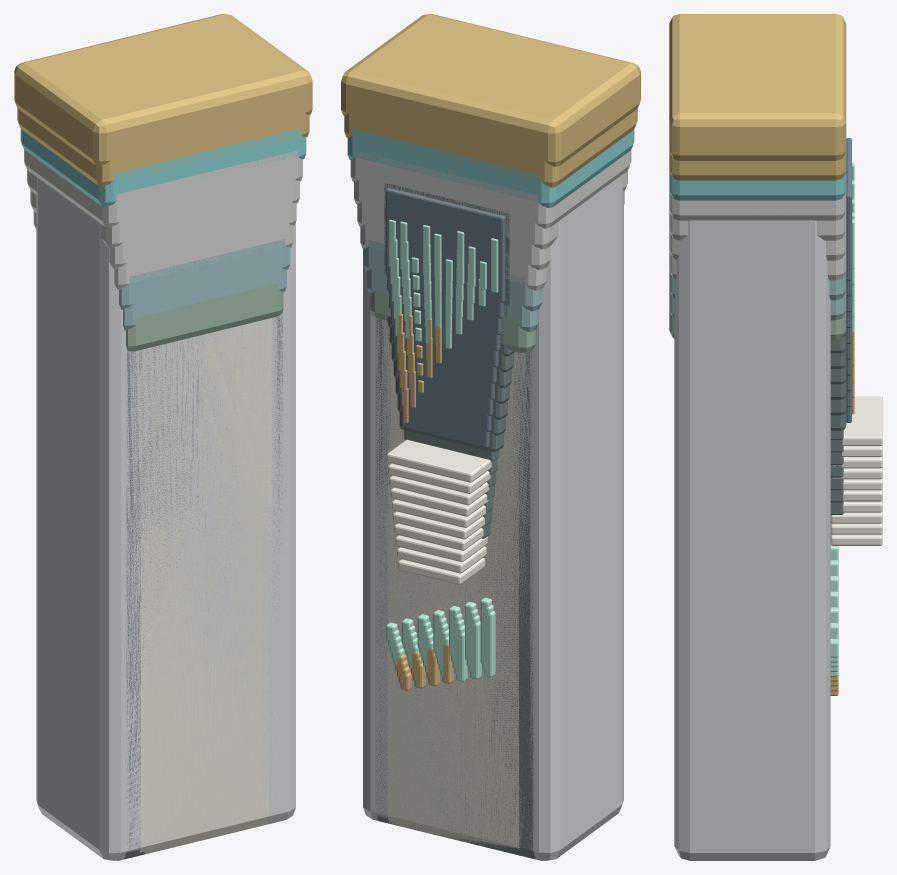
The model's file is Gear03.fbx.
The picture shows the model from 3 angles, left to right: view 1: azimuth 30°, elevation 25°; view 2: azimuth 150°, elevation 25°; view 3: azimuth 270°, elevation 25°; orthographic projection.
Parts seen in each view (by area): view 1: Gear03_V10_Platinum, Gear03_V1_Ivory, Gear03_V9_Platinum, Gear03_V10_Gold, Gear03_V3_Linen, Gear03_V2_Ivory, Gear03_V4_Linen, Gear03_V7_Chrome, Gear03_V8_Aqua, Gear03_V9_Gold, Gear03_V1_Sage, Gear03_V5_Platinum (+8 smaller); view 2: Gear03_V10_Platinum, Gear03_V10_Gold, Gear03_V3_Linen, Gear03_V9_Platinum, Gear03_V4_Linen, Gear03_V7_Graphite, Gear03_V8_Aqua, Gear03_V10_Glass, Gear03_V9_Gold, Gear03_V7_Chrome, Gear03_V1_Ivory, Gear03_V10_Glow (+37 smaller); view 3: Gear03_V10_Platinum, Gear03_V10_Gold, Gear03_V7_Chrome, Gear03_V8_Aqua, Gear03_V9_Gold, Gear03_V10_Linen, Gear03_V10_Glow, Gear03_V6_Chrome, Gear03_V10_Glass, Gear03_V5_Chrome, Gear03_V1_Linen, Gear03_V2_Linen (+17 smaller).
Part boxes in pixels (x1,y1,x2,y2): Gear03_V10_Platinum: [36, 177, 295, 860]; Gear03_V1_Ivory: [144, 332, 262, 854]; Gear03_V9_Platinum: [123, 291, 285, 850]; Gear03_V10_Gold: [14, 14, 312, 166]; Gear03_V3_Linen: [139, 328, 268, 852]; Gear03_V2_Ivory: [143, 330, 265, 851]; Gear03_V4_Linen: [138, 318, 271, 823]; Gear03_V7_Chrome: [24, 149, 302, 227]; Gear03_V8_Aqua: [20, 128, 306, 207]; Gear03_V9_Gold: [17, 106, 309, 186]; Gear03_V1_Sage: [126, 283, 283, 351]; Gear03_V5_Platinum: [135, 317, 274, 824]; Gear03_V10_Platinum: [363, 174, 623, 860]; Gear03_V10_Gold: [341, 14, 640, 166]; Gear03_V3_Linen: [390, 344, 518, 848]; Gear03_V9_Platinum: [373, 316, 536, 853]; Gear03_V4_Linen: [387, 326, 522, 854]; Gear03_V7_Graphite: [379, 318, 532, 858]; Gear03_V8_Aqua: [347, 129, 634, 208]; Gear03_V10_Glass: [385, 188, 505, 302]; Gear03_V9_Gold: [344, 107, 637, 187]; Gear03_V7_Chrome: [350, 150, 631, 228]; Gear03_V1_Ivory: [396, 368, 512, 843]; Gear03_V10_Glow: [386, 219, 498, 663]; Gear03_V10_Platinum: [674, 220, 830, 860]; Gear03_V10_Gold: [669, 14, 846, 160]; Gear03_V7_Chrome: [669, 191, 846, 220]; Gear03_V8_Aqua: [669, 171, 846, 200]; Gear03_V9_Gold: [669, 151, 846, 180]; Gear03_V10_Linen: [842, 396, 882, 445]; Gear03_V10_Glow: [830, 162, 854, 657]; Gear03_V6_Chrome: [669, 211, 846, 240]; Gear03_V10_Glass: [846, 138, 851, 280]; Gear03_V5_Chrome: [669, 231, 846, 260]; Gear03_V1_Linen: [830, 533, 882, 545]; Gear03_V2_Linen: [830, 522, 882, 534].
Bounding box in the file's own units: 48.96 × 160 × 41.
